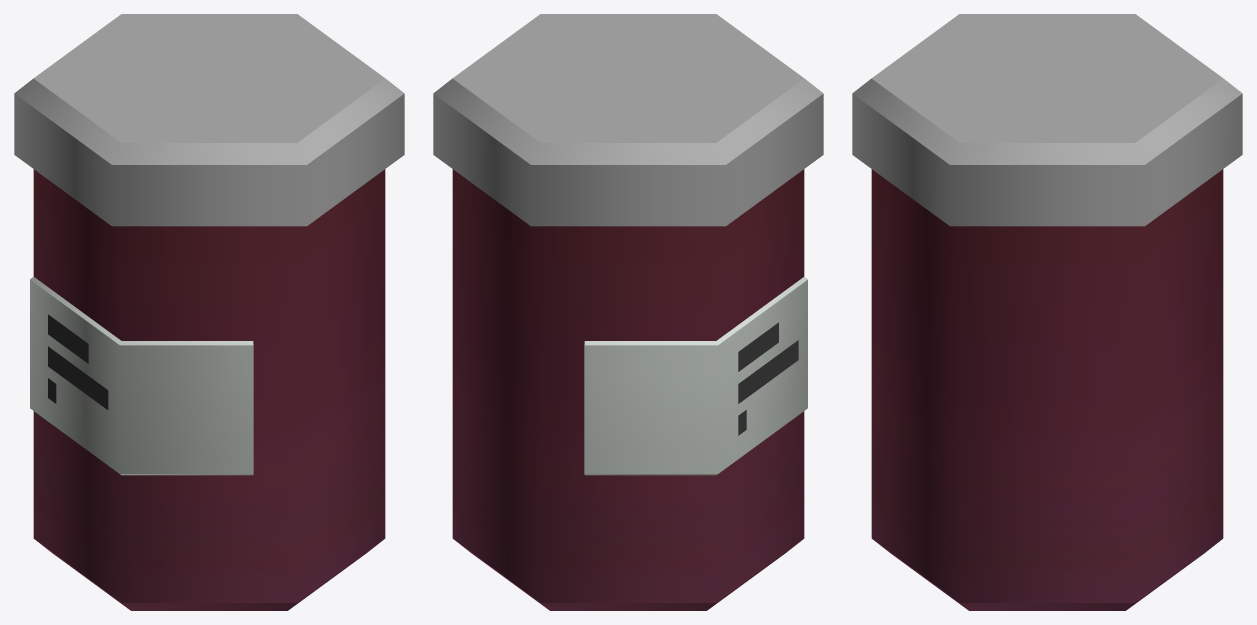
Rendered from Jar_3_C.fbx.
3 views of the same model, side by side, from view 1: azimuth 30°, elevation 25°; view 2: azimuth 150°, elevation 25°; view 3: azimuth 270°, elevation 25° (orthographic).
Visible parts, largest first — view 1: Jar_3_C; view 2: Jar_3_C; view 3: Jar_3_C.
Part boxes in pixels (x1,y1,x2,y2): Jar_3_C: (14, 14, 404, 610); Jar_3_C: (433, 14, 823, 610); Jar_3_C: (852, 14, 1242, 610).
Size of the model in its own units: 17.99 by 27.9 by 20.77.
